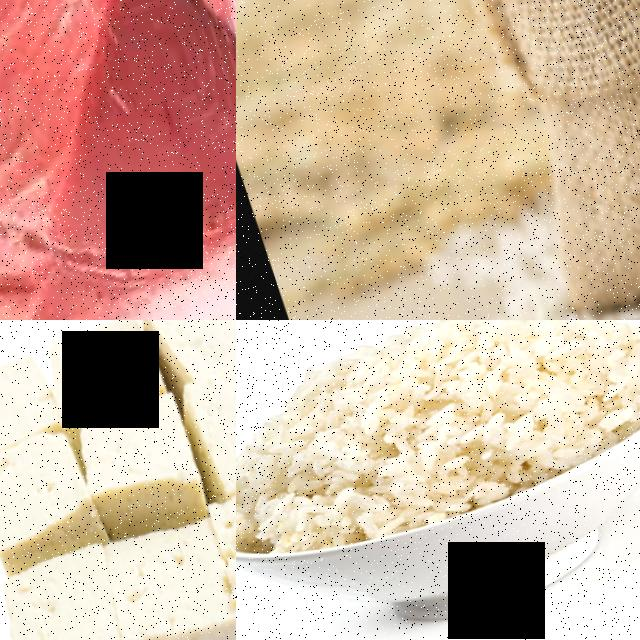tofu: (63, 381, 206, 542), (92, 505, 236, 640), (0, 538, 151, 640), (0, 421, 100, 570), (35, 320, 163, 423), (167, 348, 236, 504)
tuna: (0, 0, 236, 320)
white rice: (236, 320, 640, 589)
